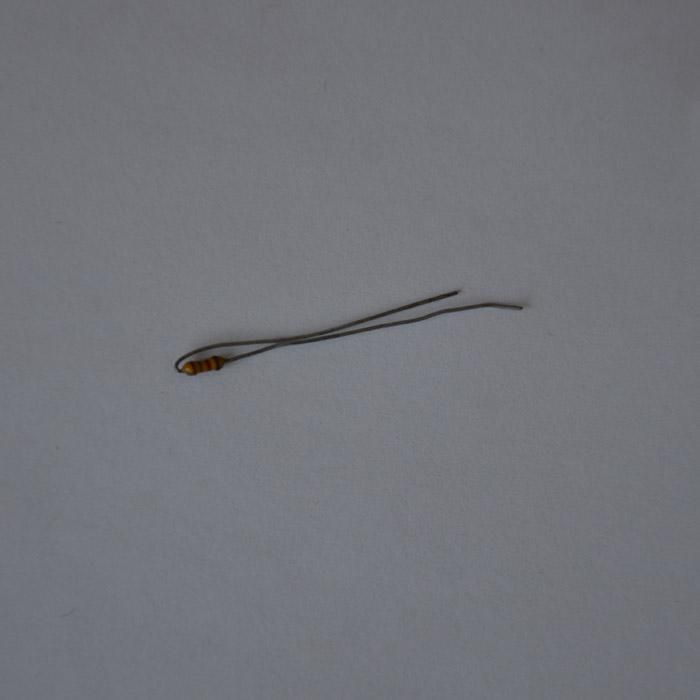resistor: (178, 354, 225, 375)
